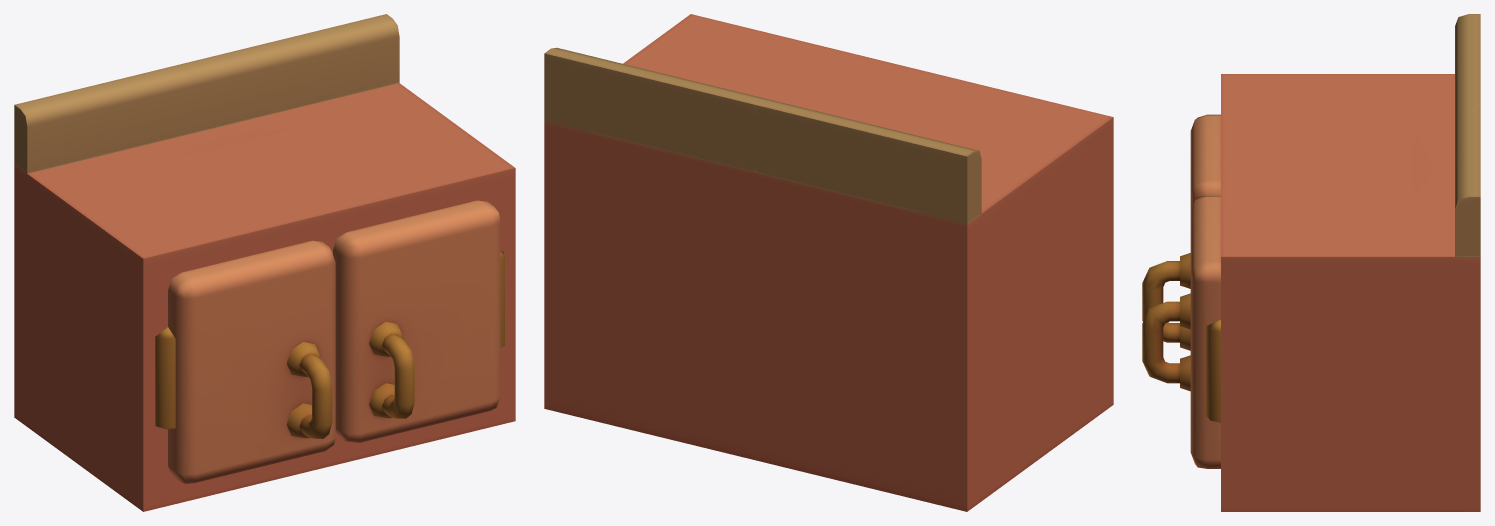
Rendered from hanging_cabinet_01.fbx.
The picture shows the model from 3 angles, left to right: view 1: azimuth 30°, elevation 25°; view 2: azimuth 150°, elevation 25°; view 3: azimuth 270°, elevation 25°; orthographic projection. The views are drawn at different scales.
Parts seen in each view (by area): view 1: hanging_cabinet_01_ready; view 2: hanging_cabinet_01_ready; view 3: hanging_cabinet_01_ready.
Boxes of the visible parts, <box> form: hanging_cabinet_01_ready: <box>14,14,515,511</box>; hanging_cabinet_01_ready: <box>544,14,1113,511</box>; hanging_cabinet_01_ready: <box>1142,14,1480,511</box>.
Size of the model in its own units: 100 by 80.32 by 78.23.
